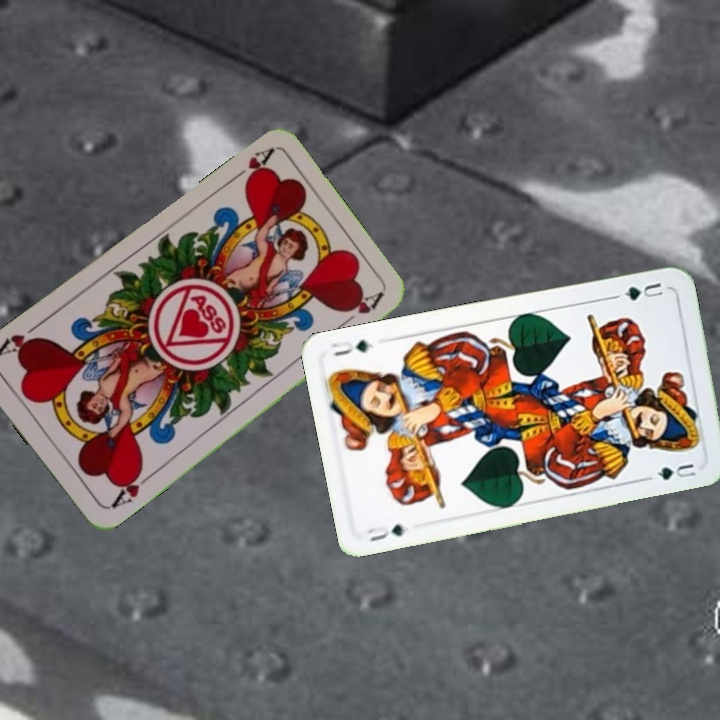GU: (620, 278, 666, 304), (362, 519, 407, 544)
HA: (104, 463, 155, 512), (224, 144, 276, 189)
